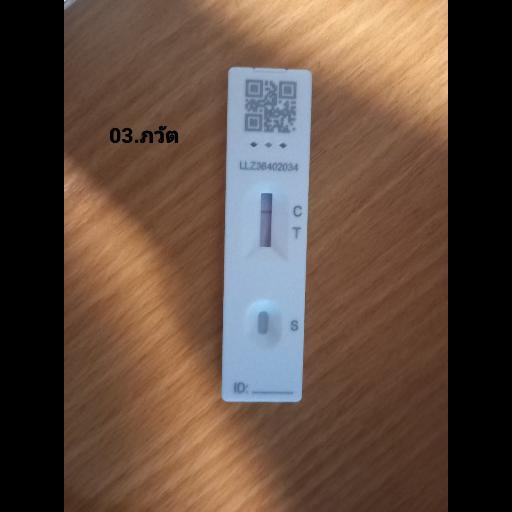Neg: (220, 66, 310, 402)
